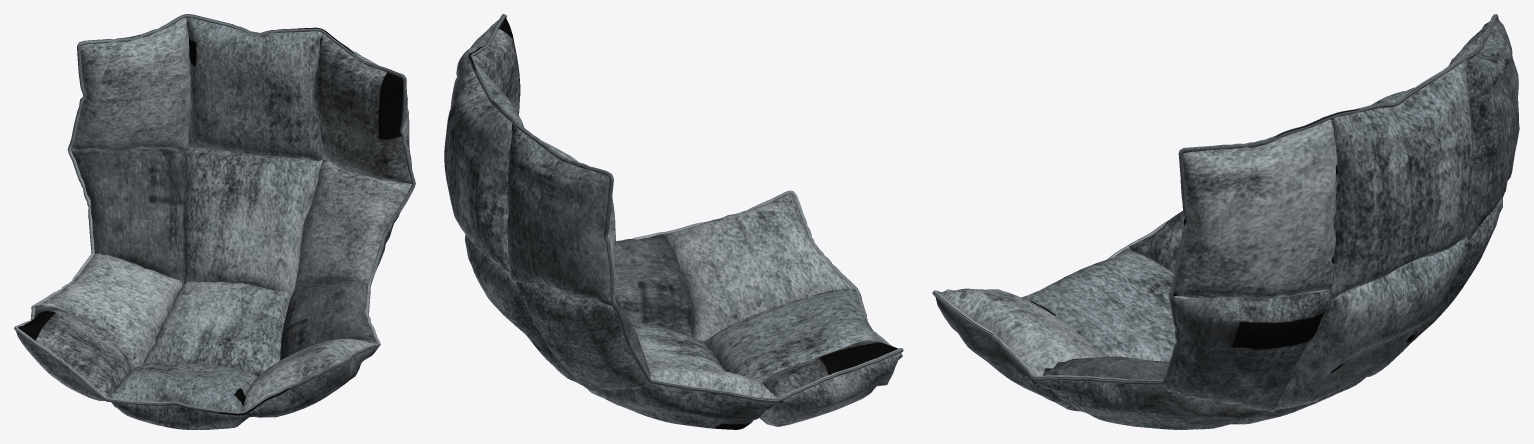
Rendered from studyroom_26.obj.
The picture shows the model from 3 angles, left to right: view 1: azimuth 30°, elevation 25°; view 2: azimuth 150°, elevation 25°; view 3: azimuth 270°, elevation 25°; orthographic projection. The views are drawn at different scales.
Bounding box in the file's own units: 0.878 × 0.6545 × 0.8713.
